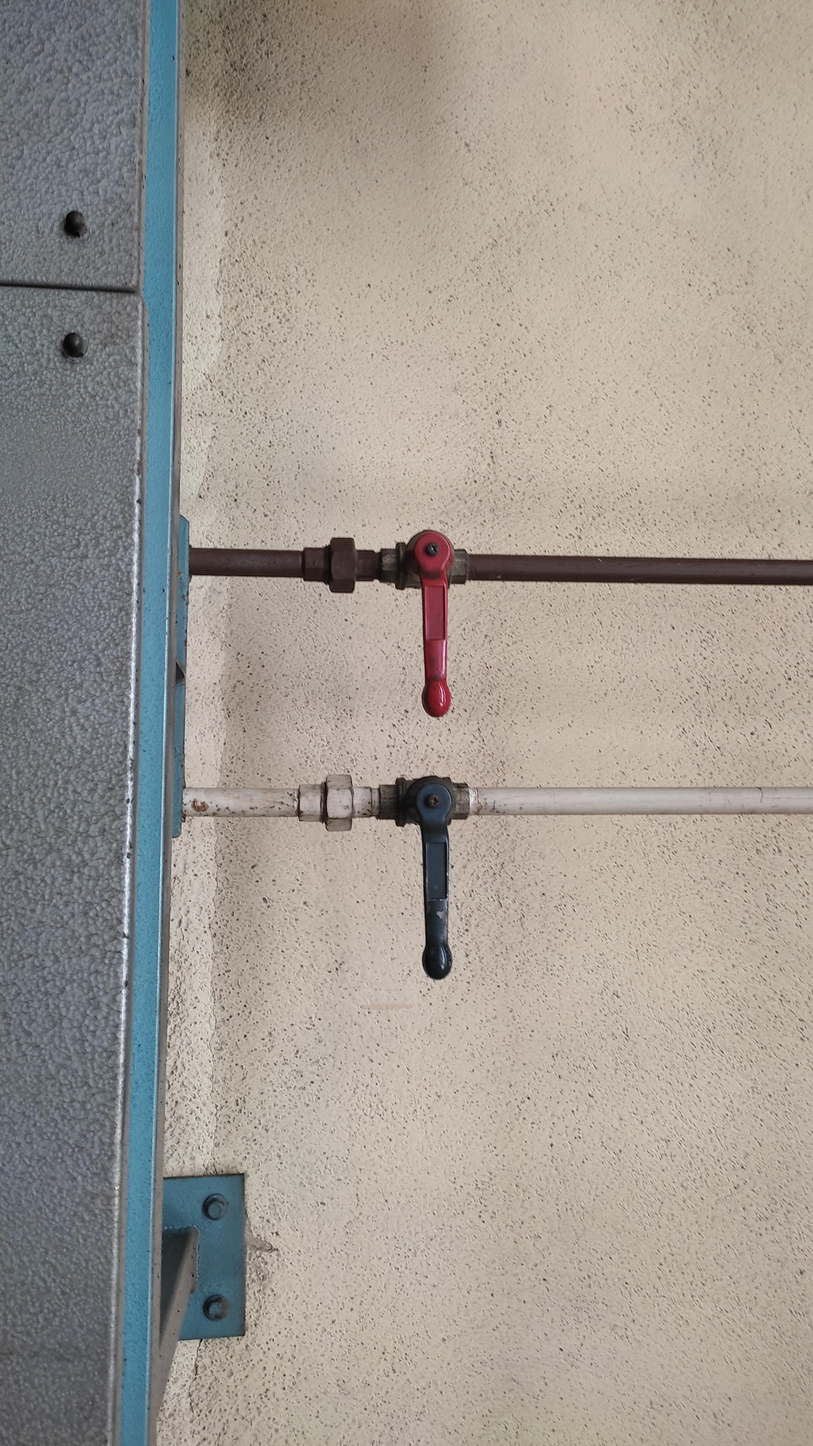closed valve: (374, 773, 472, 981), (374, 525, 474, 719)
